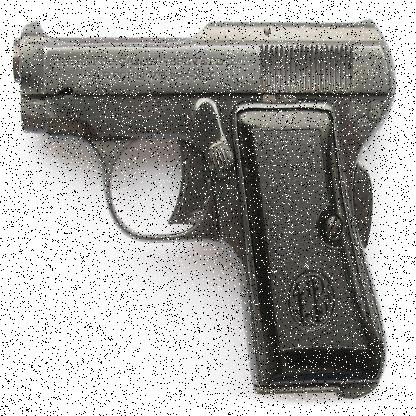pistol: (12, 5, 391, 405)
